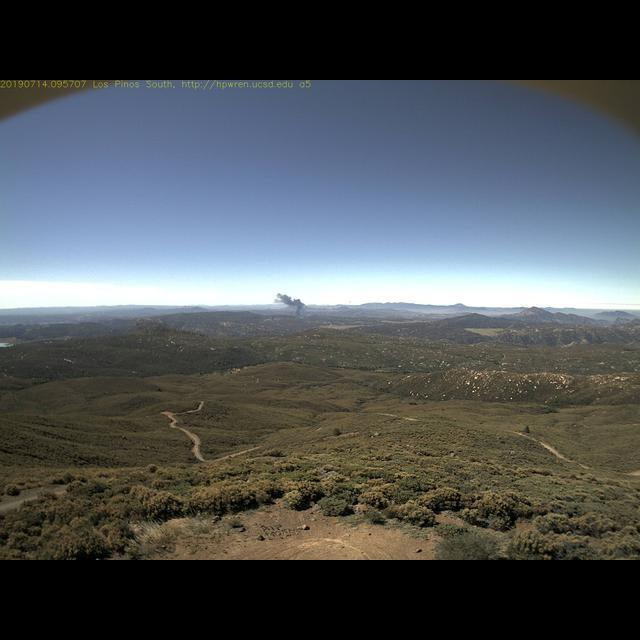Smoke: (270, 289, 309, 320)
